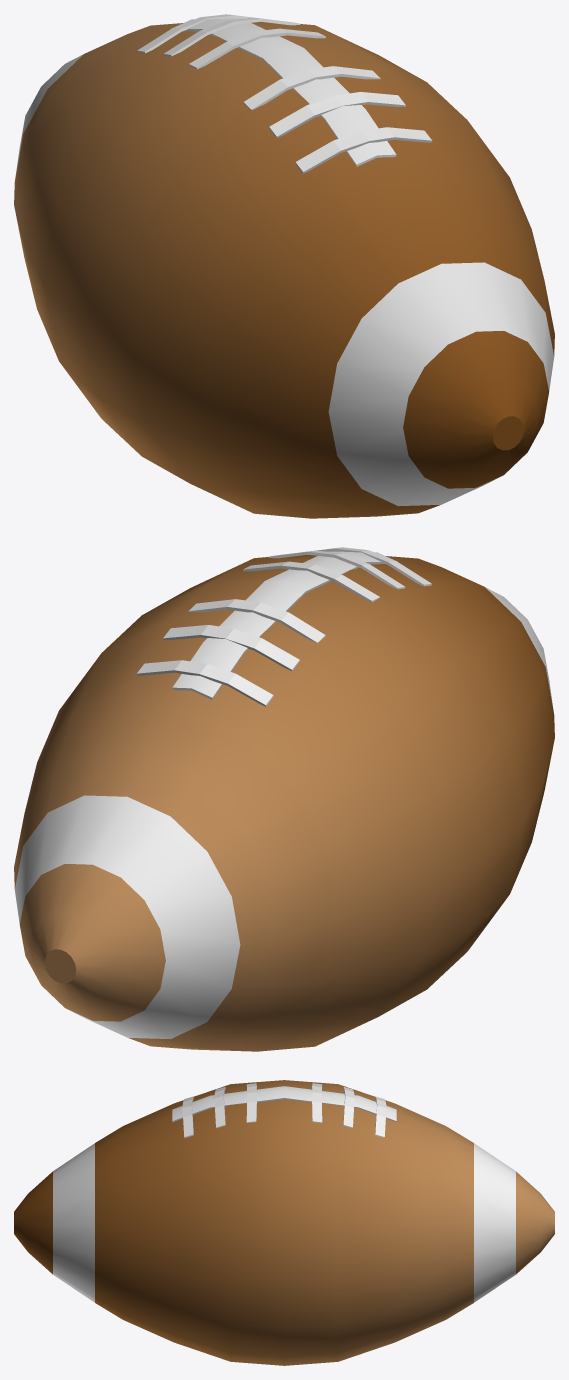
File: Rugby Ball.glb
3 renders of one model, top to bottom at view 1: azimuth 30°, elevation 25°; view 2: azimuth 150°, elevation 25°; view 3: azimuth 270°, elevation 25°, orthographic. The views are drawn at different scales.
Parts seen in each view (by area): view 1: Rugby Ball; view 2: Rugby Ball; view 3: Rugby Ball.
Part boxes in pixels (x1,y1,x2,y2): Rugby Ball: (14,14,554,518); Rugby Ball: (14,547,554,1051); Rugby Ball: (14,1080,554,1365).
Size of the model in its own units: 0.0654 by 0.0676 by 0.1258.
Materials: 1 (1 with a texture image).
